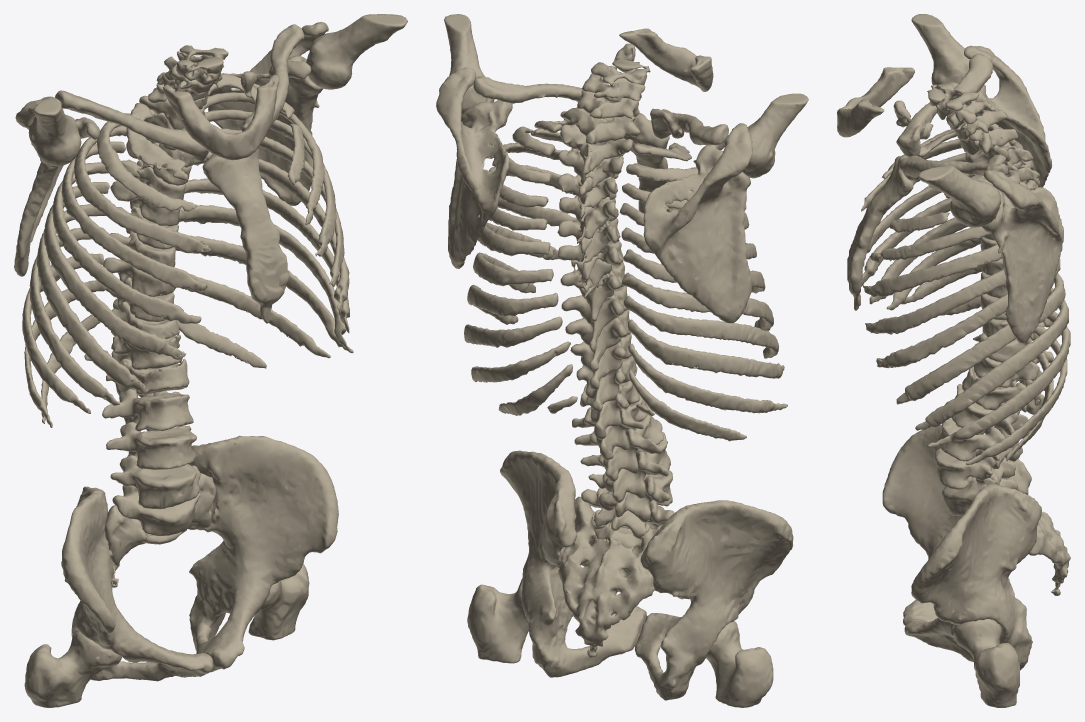
File: tsd_s0196_older_adult_female.skeletal.LOD1.glb
3 views of the same model, side by side, from view 1: azimuth 30°, elevation 25°; view 2: azimuth 150°, elevation 25°; view 3: azimuth 270°, elevation 25° (orthographic). The views are drawn at different scales.
Visible parts, largest first — view 1: TSD_S0196.OLDER_ADULT.FEMALE.SKELETAL.HIP_BONE_OS_COXAE.L, TSD_S0196.OLDER_ADULT.FEMALE.SKELETAL.HIP_BONE_OS_COXAE.R, TSD_S0196.OLDER_ADULT.FEMALE.SKELETAL.STERNUM, TSD_S0196.OLDER_ADULT.FEMALE.SKELETAL.SCAPULA.L, TSD_S0196.OLDER_ADULT.FEMALE.SKELETAL.FEMUR.R, TSD_S0196.OLDER_ADULT.FEMALE.SKELETAL.SKULL, TSD_S0196.OLDER_ADULT.FEMALE.SKELETAL.HUMERUS.L, TSD_S0196.OLDER_ADULT.FEMALE.SKELETAL.RIB_6.R, TSD_S0196.OLDER_ADULT.FEMALE.SKELETAL.RIB_5.R, TSD_S0196.OLDER_ADULT.FEMALE.SKELETAL.RIB_7.R, TSD_S0196.OLDER_ADULT.FEMALE.SKELETAL.RIB_4.R, TSD_S0196.OLDER_ADULT.FEMALE.SKELETAL.SCAPULA.R (+36 smaller); view 2: TSD_S0196.OLDER_ADULT.FEMALE.SKELETAL.HIP_BONE_OS_COXAE.R, TSD_S0196.OLDER_ADULT.FEMALE.SKELETAL.SCAPULA.R, TSD_S0196.OLDER_ADULT.FEMALE.SKELETAL.HIP_BONE_OS_COXAE.L, TSD_S0196.OLDER_ADULT.FEMALE.SKELETAL.SCAPULA.L, TSD_S0196.OLDER_ADULT.FEMALE.SKELETAL.SACRUM, TSD_S0196.OLDER_ADULT.FEMALE.SKELETAL.FEMUR.L, TSD_S0196.OLDER_ADULT.FEMALE.SKELETAL.FEMUR.R, TSD_S0196.OLDER_ADULT.FEMALE.SKELETAL.SKULL, TSD_S0196.OLDER_ADULT.FEMALE.SKELETAL.RIB_8.R, TSD_S0196.OLDER_ADULT.FEMALE.SKELETAL.RIB_9.R, TSD_S0196.OLDER_ADULT.FEMALE.SKELETAL.HUMERUS.R, TSD_S0196.OLDER_ADULT.FEMALE.SKELETAL.RIB_10.R (+41 smaller); view 3: TSD_S0196.OLDER_ADULT.FEMALE.SKELETAL.HIP_BONE_OS_COXAE.L, TSD_S0196.OLDER_ADULT.FEMALE.SKELETAL.SCAPULA.L, TSD_S0196.OLDER_ADULT.FEMALE.SKELETAL.HIP_BONE_OS_COXAE.R, TSD_S0196.OLDER_ADULT.FEMALE.SKELETAL.SCAPULA.R, TSD_S0196.OLDER_ADULT.FEMALE.SKELETAL.FEMUR.L, TSD_S0196.OLDER_ADULT.FEMALE.SKELETAL.RIB_8.L, TSD_S0196.OLDER_ADULT.FEMALE.SKELETAL.HUMERUS.L, TSD_S0196.OLDER_ADULT.FEMALE.SKELETAL.RIB_7.L, TSD_S0196.OLDER_ADULT.FEMALE.SKELETAL.STERNUM, TSD_S0196.OLDER_ADULT.FEMALE.SKELETAL.SKULL, TSD_S0196.OLDER_ADULT.FEMALE.SKELETAL.RIB_9.L, TSD_S0196.OLDER_ADULT.FEMALE.SKELETAL.RIB_6.L (+29 smaller).
Boxes of the visible parts, x1,y1,x2,y2 form: TSD_S0196.OLDER_ADULT.FEMALE.SKELETAL.HIP_BONE_OS_COXAE.L: (189, 435, 338, 672); TSD_S0196.OLDER_ADULT.FEMALE.SKELETAL.HIP_BONE_OS_COXAE.R: (61, 486, 213, 681); TSD_S0196.OLDER_ADULT.FEMALE.SKELETAL.STERNUM: (202, 148, 289, 323); TSD_S0196.OLDER_ADULT.FEMALE.SKELETAL.SCAPULA.L: (208, 21, 328, 205); TSD_S0196.OLDER_ADULT.FEMALE.SKELETAL.FEMUR.R: (24, 630, 121, 707); TSD_S0196.OLDER_ADULT.FEMALE.SKELETAL.SKULL: (162, 71, 279, 160); TSD_S0196.OLDER_ADULT.FEMALE.SKELETAL.HUMERUS.L: (306, 14, 407, 89); TSD_S0196.OLDER_ADULT.FEMALE.SKELETAL.RIB_6.R: (44, 182, 185, 359); TSD_S0196.OLDER_ADULT.FEMALE.SKELETAL.RIB_5.R: (52, 162, 201, 323); TSD_S0196.OLDER_ADULT.FEMALE.SKELETAL.RIB_7.R: (36, 204, 145, 394); TSD_S0196.OLDER_ADULT.FEMALE.SKELETAL.RIB_4.R: (61, 141, 207, 291); TSD_S0196.OLDER_ADULT.FEMALE.SKELETAL.SCAPULA.R: (14, 96, 99, 276); TSD_S0196.OLDER_ADULT.FEMALE.SKELETAL.HIP_BONE_OS_COXAE.R: (634, 500, 793, 700); TSD_S0196.OLDER_ADULT.FEMALE.SKELETAL.SCAPULA.R: (643, 123, 752, 323); TSD_S0196.OLDER_ADULT.FEMALE.SKELETAL.HIP_BONE_OS_COXAE.L: (500, 450, 646, 677); TSD_S0196.OLDER_ADULT.FEMALE.SKELETAL.SCAPULA.L: (436, 67, 512, 268); TSD_S0196.OLDER_ADULT.FEMALE.SKELETAL.SACRUM: (558, 496, 663, 657); TSD_S0196.OLDER_ADULT.FEMALE.SKELETAL.FEMUR.L: (467, 578, 528, 663); TSD_S0196.OLDER_ADULT.FEMALE.SKELETAL.FEMUR.R: (706, 621, 773, 707); TSD_S0196.OLDER_ADULT.FEMALE.SKELETAL.SKULL: (614, 28, 713, 91); TSD_S0196.OLDER_ADULT.FEMALE.SKELETAL.RIB_8.R: (623, 295, 778, 358); TSD_S0196.OLDER_ADULT.FEMALE.SKELETAL.RIB_9.R: (628, 319, 784, 378); TSD_S0196.OLDER_ADULT.FEMALE.SKELETAL.HUMERUS.R: (742, 93, 808, 178); TSD_S0196.OLDER_ADULT.FEMALE.SKELETAL.RIB_10.R: (628, 343, 787, 413); TSD_S0196.OLDER_ADULT.FEMALE.SKELETAL.HIP_BONE_OS_COXAE.L: (904, 483, 1041, 670); TSD_S0196.OLDER_ADULT.FEMALE.SKELETAL.SCAPULA.L: (974, 169, 1063, 343); TSD_S0196.OLDER_ADULT.FEMALE.SKELETAL.HIP_BONE_OS_COXAE.R: (882, 424, 1031, 625); TSD_S0196.OLDER_ADULT.FEMALE.SKELETAL.SCAPULA.R: (949, 45, 1052, 187); TSD_S0196.OLDER_ADULT.FEMALE.SKELETAL.FEMUR.L: (953, 619, 1019, 707); TSD_S0196.OLDER_ADULT.FEMALE.SKELETAL.RIB_8.L: (915, 287, 1068, 430); TSD_S0196.OLDER_ADULT.FEMALE.SKELETAL.HUMERUS.L: (918, 165, 1001, 227); TSD_S0196.OLDER_ADULT.FEMALE.SKELETAL.RIB_7.L: (896, 273, 1065, 404); TSD_S0196.OLDER_ADULT.FEMALE.SKELETAL.STERNUM: (847, 155, 916, 310); TSD_S0196.OLDER_ADULT.FEMALE.SKELETAL.SKULL: (837, 67, 914, 137); TSD_S0196.OLDER_ADULT.FEMALE.SKELETAL.RIB_9.L: (927, 311, 1070, 447); TSD_S0196.OLDER_ADULT.FEMALE.SKELETAL.RIB_6.L: (876, 258, 1060, 368).
Bounding box in the file's own units: 0.349 × 0.551 × 0.2076.
